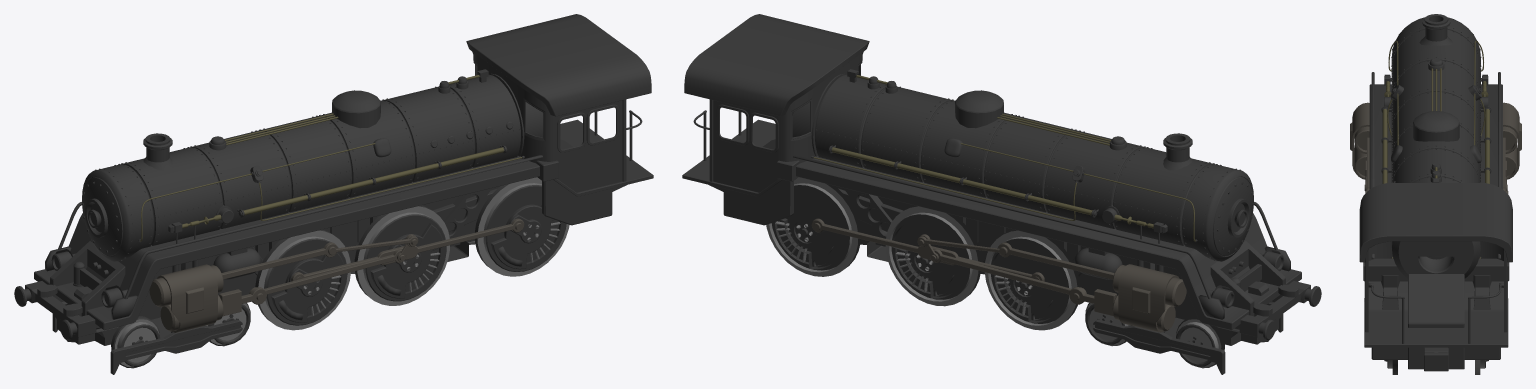
Rendered from steam-train.obj.
3 views of the same model, side by side, from view 1: azimuth 30°, elevation 25°; view 2: azimuth 150°, elevation 25°; view 3: azimuth 270°, elevation 25° (orthographic). The views are drawn at different scales.
Parts seen in each view (by area): view 1: SteamTrain; view 2: SteamTrain; view 3: SteamTrain.
Part boxes in pixels (left/top/right/bottom): SteamTrain: left=14, top=14, right=653, bottom=374; SteamTrain: left=682, top=14, right=1321, bottom=374; SteamTrain: left=1350, top=14, right=1521, bottom=374.
Size of the model in its own units: 5.5 by 1.86 by 1.51.
